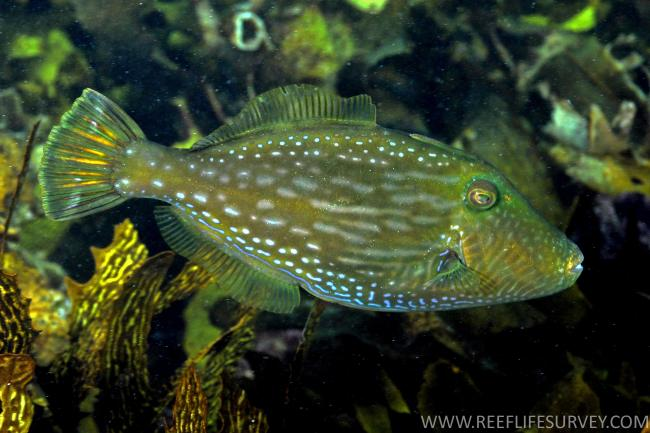fish: (39, 83, 585, 314)
